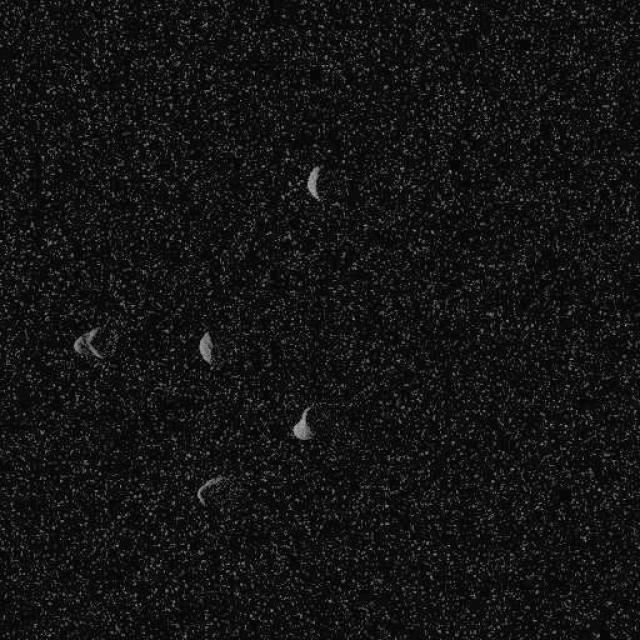D2: (71, 325, 105, 361), (195, 473, 226, 508), (291, 405, 315, 440), (305, 164, 323, 201), (197, 330, 215, 366)
